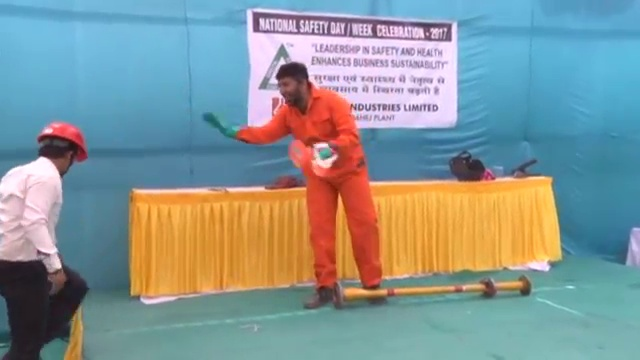helmet: (37, 120, 88, 159)
helmet_off: (275, 63, 311, 105)
helmet_on: (35, 119, 88, 180)
person: (243, 61, 381, 306), (1, 117, 92, 360)
